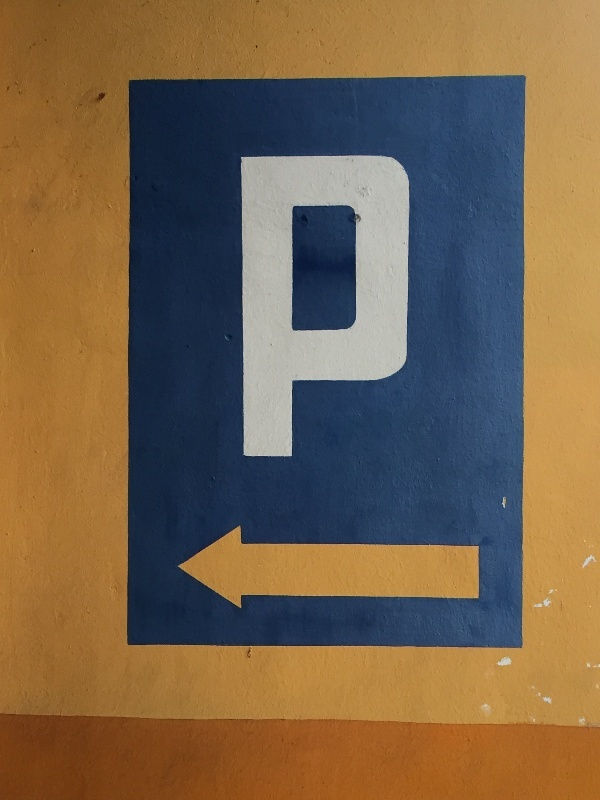text: (241, 153, 256, 463), (257, 153, 272, 463), (273, 153, 288, 463), (289, 153, 304, 463), (305, 153, 320, 463), (321, 153, 336, 463), (337, 153, 352, 463), (353, 153, 368, 463), (369, 153, 384, 463), (385, 153, 400, 463), (401, 153, 412, 463)
